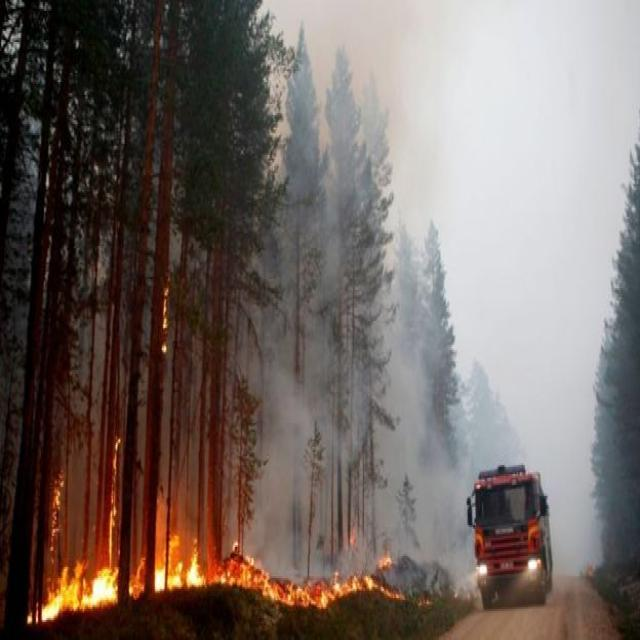Fire: (11, 541, 445, 622)
Smoke: (232, 52, 480, 601)
